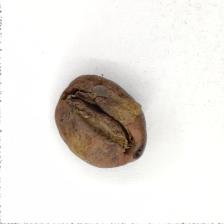NG: (68, 76, 136, 160)
